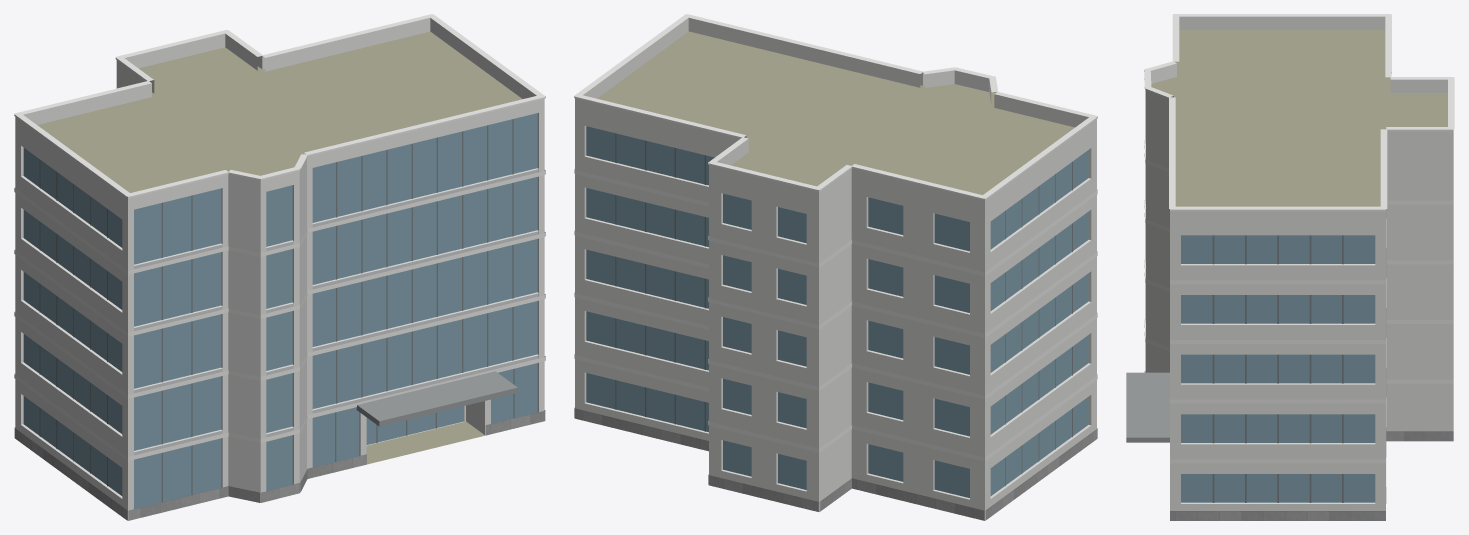
3 renders of one model, left to right at view 1: azimuth 30°, elevation 25°; view 2: azimuth 150°, elevation 25°; view 3: azimuth 270°, elevation 25°, orthographic. The views are drawn at different scales.
Visible parts, largest first — view 1: media__glass, media__wall, media__roof, media__trim, media__parapet, media__frame, media__spandrel, media__base, media__canopy; view 2: media__wall, media__glass, media__roof, media__trim, media__parapet, media__base, media__frame; view 3: media__wall, media__roof, media__glass, media__trim, media__parapet, media__canopy, media__base, media__frame.
Part boxes in pixels (x1,y1,x2,y2): media__glass: [23, 113, 537, 508]; media__wall: [15, 71, 544, 520]; media__roof: [37, 31, 522, 520]; media__trim: [14, 14, 545, 460]; media__parapet: [15, 17, 544, 210]; media__frame: [39, 119, 514, 502]; media__spandrel: [134, 169, 538, 455]; media__base: [14, 410, 545, 520]; media__canopy: [356, 371, 517, 426]; media__wall: [575, 110, 1096, 520]; media__glass: [586, 126, 1088, 497]; media__roof: [597, 31, 1074, 520]; media__trim: [574, 14, 1097, 460]; media__parapet: [575, 18, 1096, 211]; media__base: [574, 407, 1097, 520]; media__frame: [615, 133, 1072, 486]; media__wall: [1145, 90, 1453, 510]; media__roof: [1151, 30, 1447, 206]; media__glass: [1181, 235, 1375, 502]; media__trim: [1144, 14, 1454, 463]; media__parapet: [1145, 16, 1453, 222]; media__canopy: [1126, 372, 1169, 442]; media__base: [1144, 371, 1453, 520]; media__frame: [1212, 235, 1343, 502].
Bounding box in the file's own units: 25.3 × 18.82 × 17.96.
Materials: 10 (1 with a texture image).
